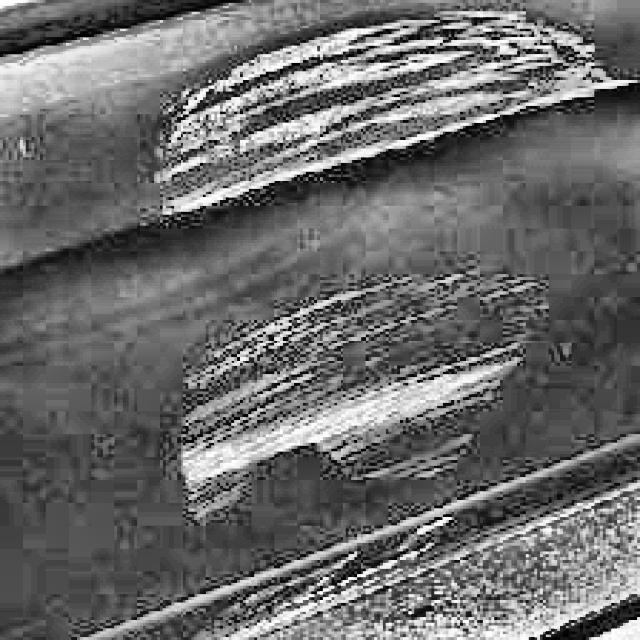door_scratch: (166, 18, 608, 185), (168, 280, 504, 498)
